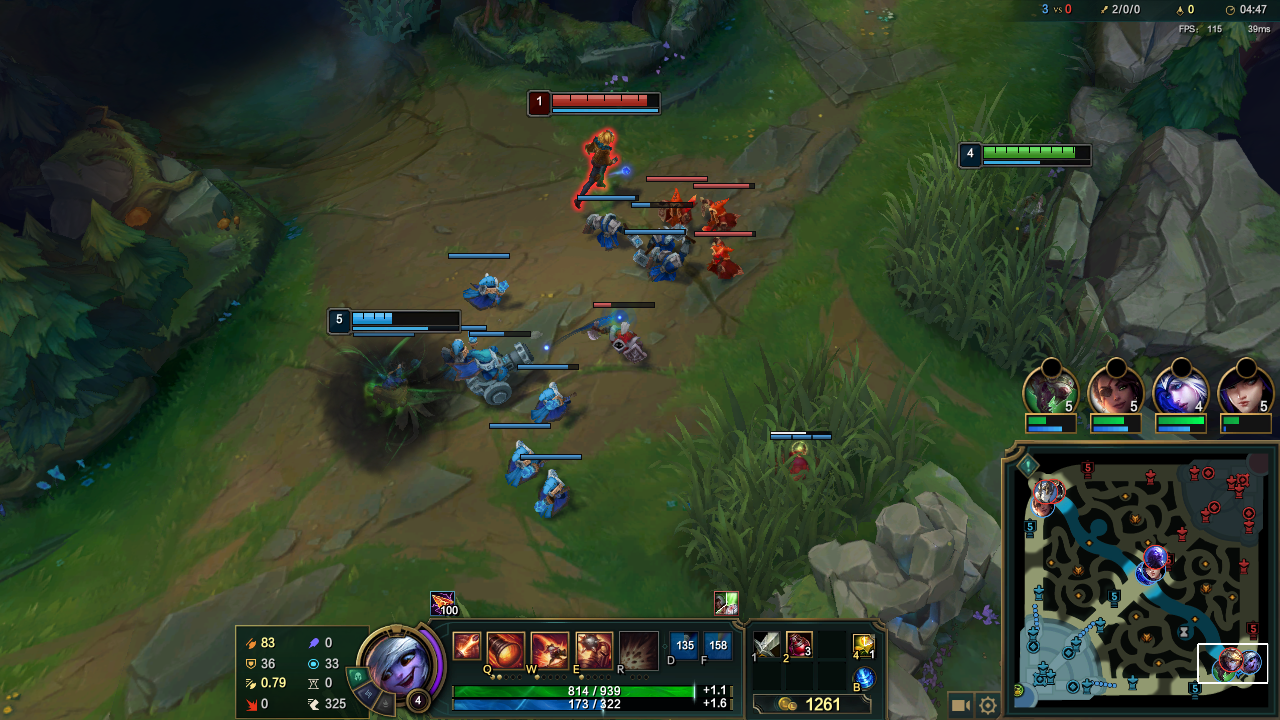DFXB: (696, 241, 765, 302), (588, 316, 657, 375), (696, 194, 761, 238), (655, 188, 707, 231)
DFYX: (549, 96, 663, 113)
WFXB: (462, 344, 539, 407), (456, 267, 515, 311), (530, 464, 576, 520), (634, 241, 683, 289), (577, 207, 630, 251), (529, 379, 576, 425), (640, 217, 690, 260), (499, 438, 541, 483), (444, 339, 482, 378)
